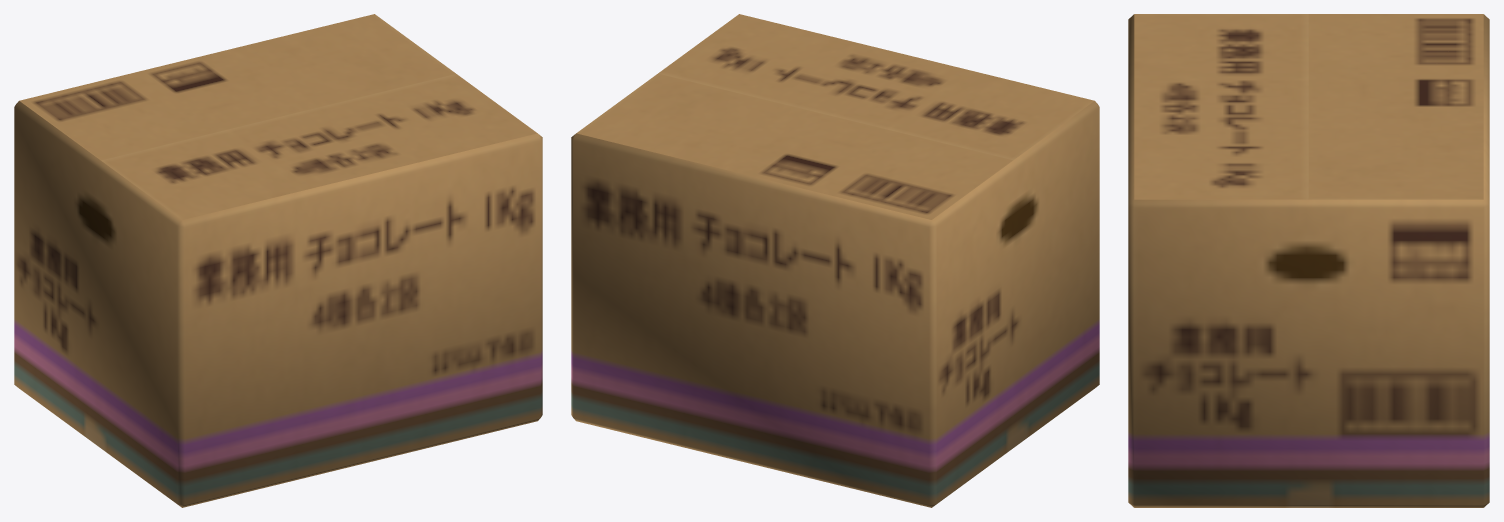
The model's file is jsf_Cardboard_Chocolate_01.fbx.
3 views of the same model, side by side, from view 1: azimuth 30°, elevation 25°; view 2: azimuth 150°, elevation 25°; view 3: azimuth 270°, elevation 25° (orthographic). The views are drawn at different scales.
Parts seen in each view (by area): view 1: Body, Lid_01, Lid_02; view 2: Body, Lid_02, Lid_01; view 3: Body, Lid_01, Lid_02.
Boxes of the visible parts, x1,y1,x2,y2 form: Body: [14, 101, 542, 507]; Lid_01: [19, 14, 455, 160]; Lid_02: [101, 74, 537, 219]; Body: [571, 101, 1099, 507]; Lid_02: [658, 14, 1094, 160]; Lid_01: [576, 74, 1012, 219]; Body: [1128, 14, 1489, 507]; Lid_01: [1309, 14, 1483, 199]; Lid_02: [1134, 14, 1308, 199].
Bounding box in the file's own units: 37.5 × 28.24 × 30.
